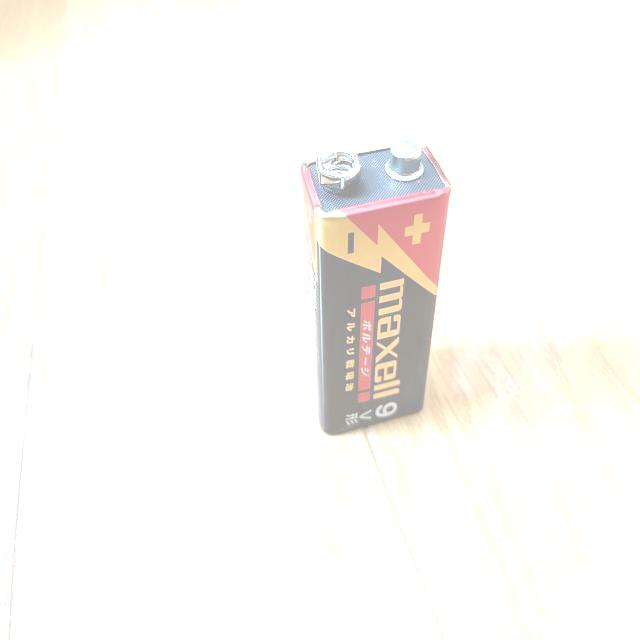9V: (298, 138, 451, 437)
